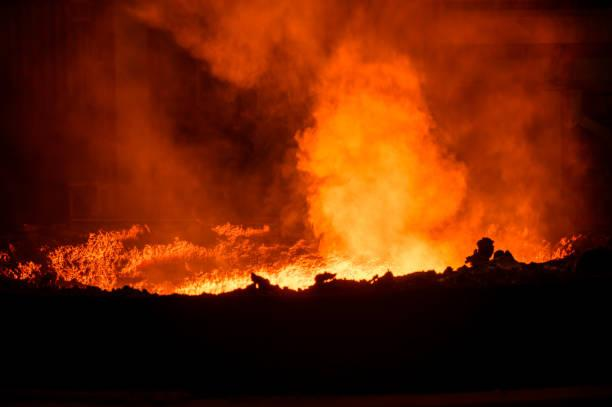Fire: (9, 67, 568, 278)
